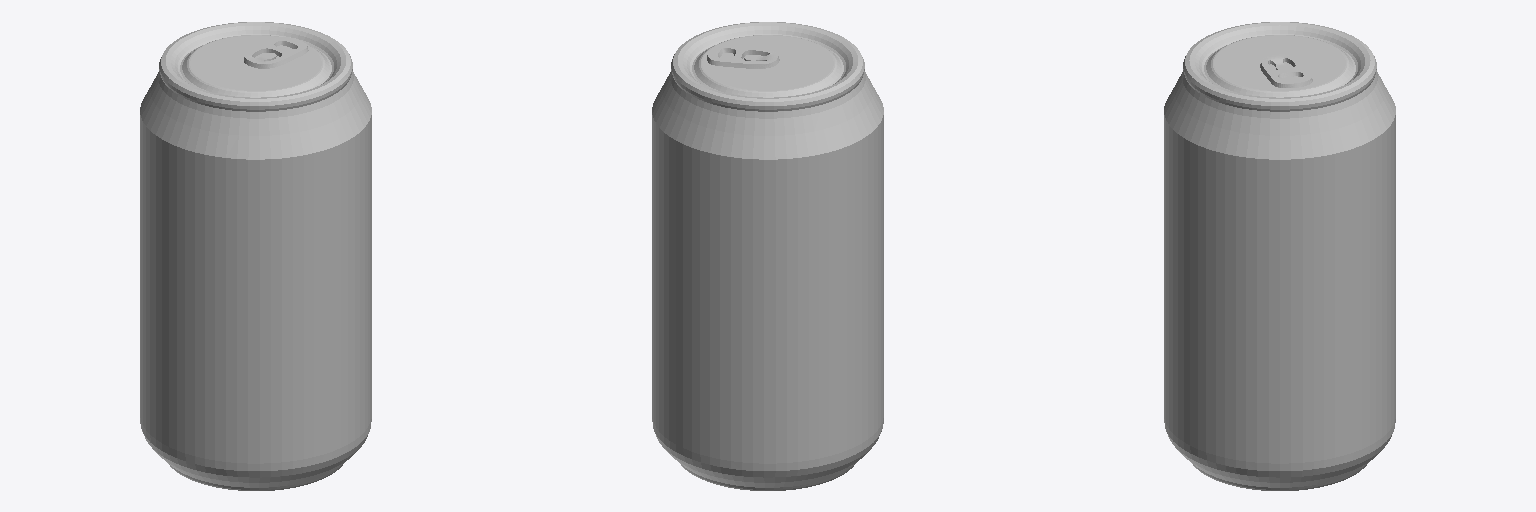
The model's file is remicola.obj.
3 views of the same model, side by side, from view 1: azimuth 30°, elevation 25°; view 2: azimuth 150°, elevation 25°; view 3: azimuth 270°, elevation 25° (orthographic).
Visible parts, largest first — view 1: Cola_Can.001; view 2: Cola_Can.001; view 3: Cola_Can.001.
Part boxes in pixels (x1,y1,x2,y2): Cola_Can.001: (140, 22, 371, 490); Cola_Can.001: (652, 22, 883, 490); Cola_Can.001: (1164, 22, 1395, 490).
Bounding box in the file's own units: 0.0195 × 0.0366 × 0.0195.